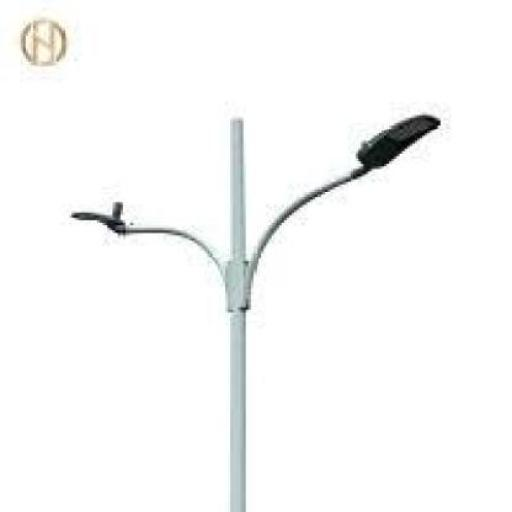street light: (66, 112, 446, 509)
